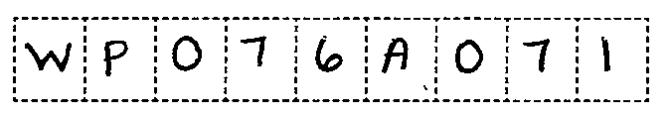0: (168, 31, 208, 78), (450, 33, 489, 80)
1: (590, 29, 624, 80)
6: (309, 32, 349, 77)
7: (516, 32, 556, 79), (234, 31, 274, 77)
A: (376, 34, 418, 78)
P: (98, 33, 137, 79)
W: (20, 36, 76, 78)
